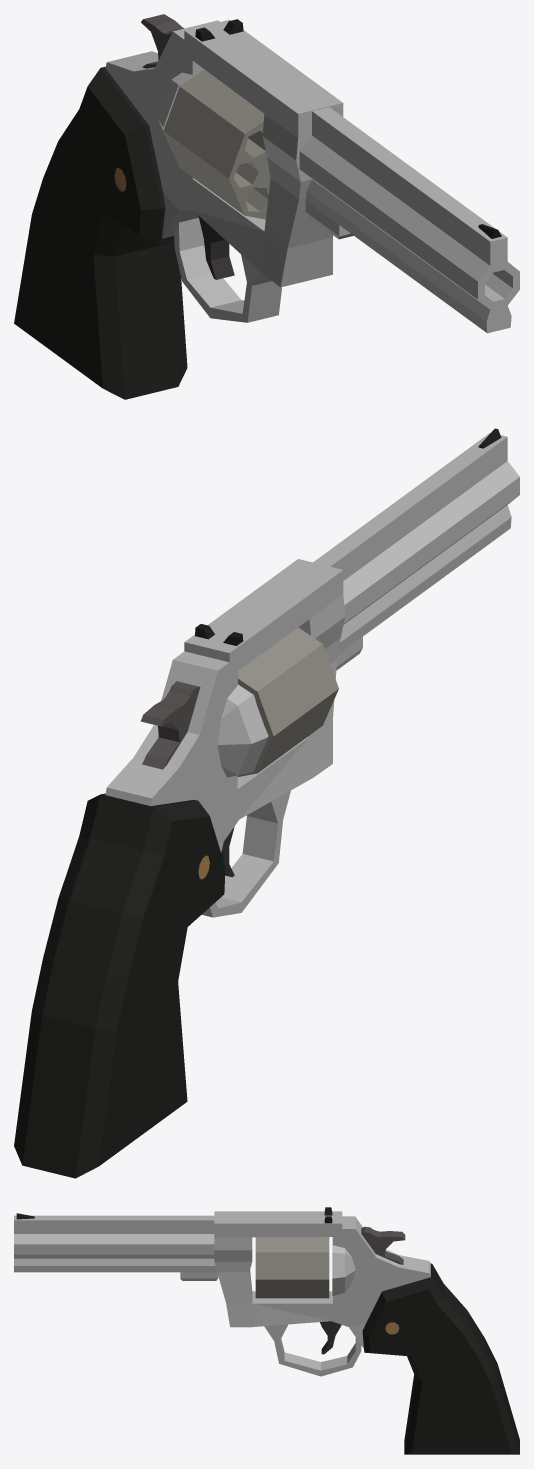
File: o2_Weapons_Revolver.fbx
3 views of the same model, one above another, from view 1: azimuth 30°, elevation 25°; view 2: azimuth 150°, elevation 25°; view 3: azimuth 270°, elevation 25° (orthographic). The views are drawn at different scales.
Visible parts, largest first — view 1: o2_Weapons_Revolver, Revolver_Chamber, Revolver_Trigger, Revolver_Pull; view 2: o2_Weapons_Revolver, Revolver_Chamber, Revolver_Pull; view 3: o2_Weapons_Revolver, Revolver_Chamber, Revolver_Pull, Revolver_Trigger.
Part boxes in pixels (left/top/right/bottom): o2_Weapons_Revolver: left=14, top=19, right=519, bottom=399; Revolver_Chamber: left=163, top=69, right=270, bottom=219; Revolver_Trigger: left=198, top=215, right=234, bottom=279; Revolver_Pull: left=141, top=14, right=184, bottom=68; o2_Weapons_Revolver: left=14, top=432, right=519, bottom=1178; Revolver_Chamber: left=237, top=627, right=338, bottom=776; Revolver_Pull: left=140, top=681, right=200, bottom=769; o2_Weapons_Revolver: left=14, top=1211, right=519, bottom=1454; Revolver_Chamber: left=255, top=1237, right=329, bottom=1298; Revolver_Pull: left=361, top=1226, right=405, bottom=1264; Revolver_Trigger: left=320, top=1321, right=341, bottom=1354.
Size of the model in its own units: 4.98 by 17.97 by 35.18.
